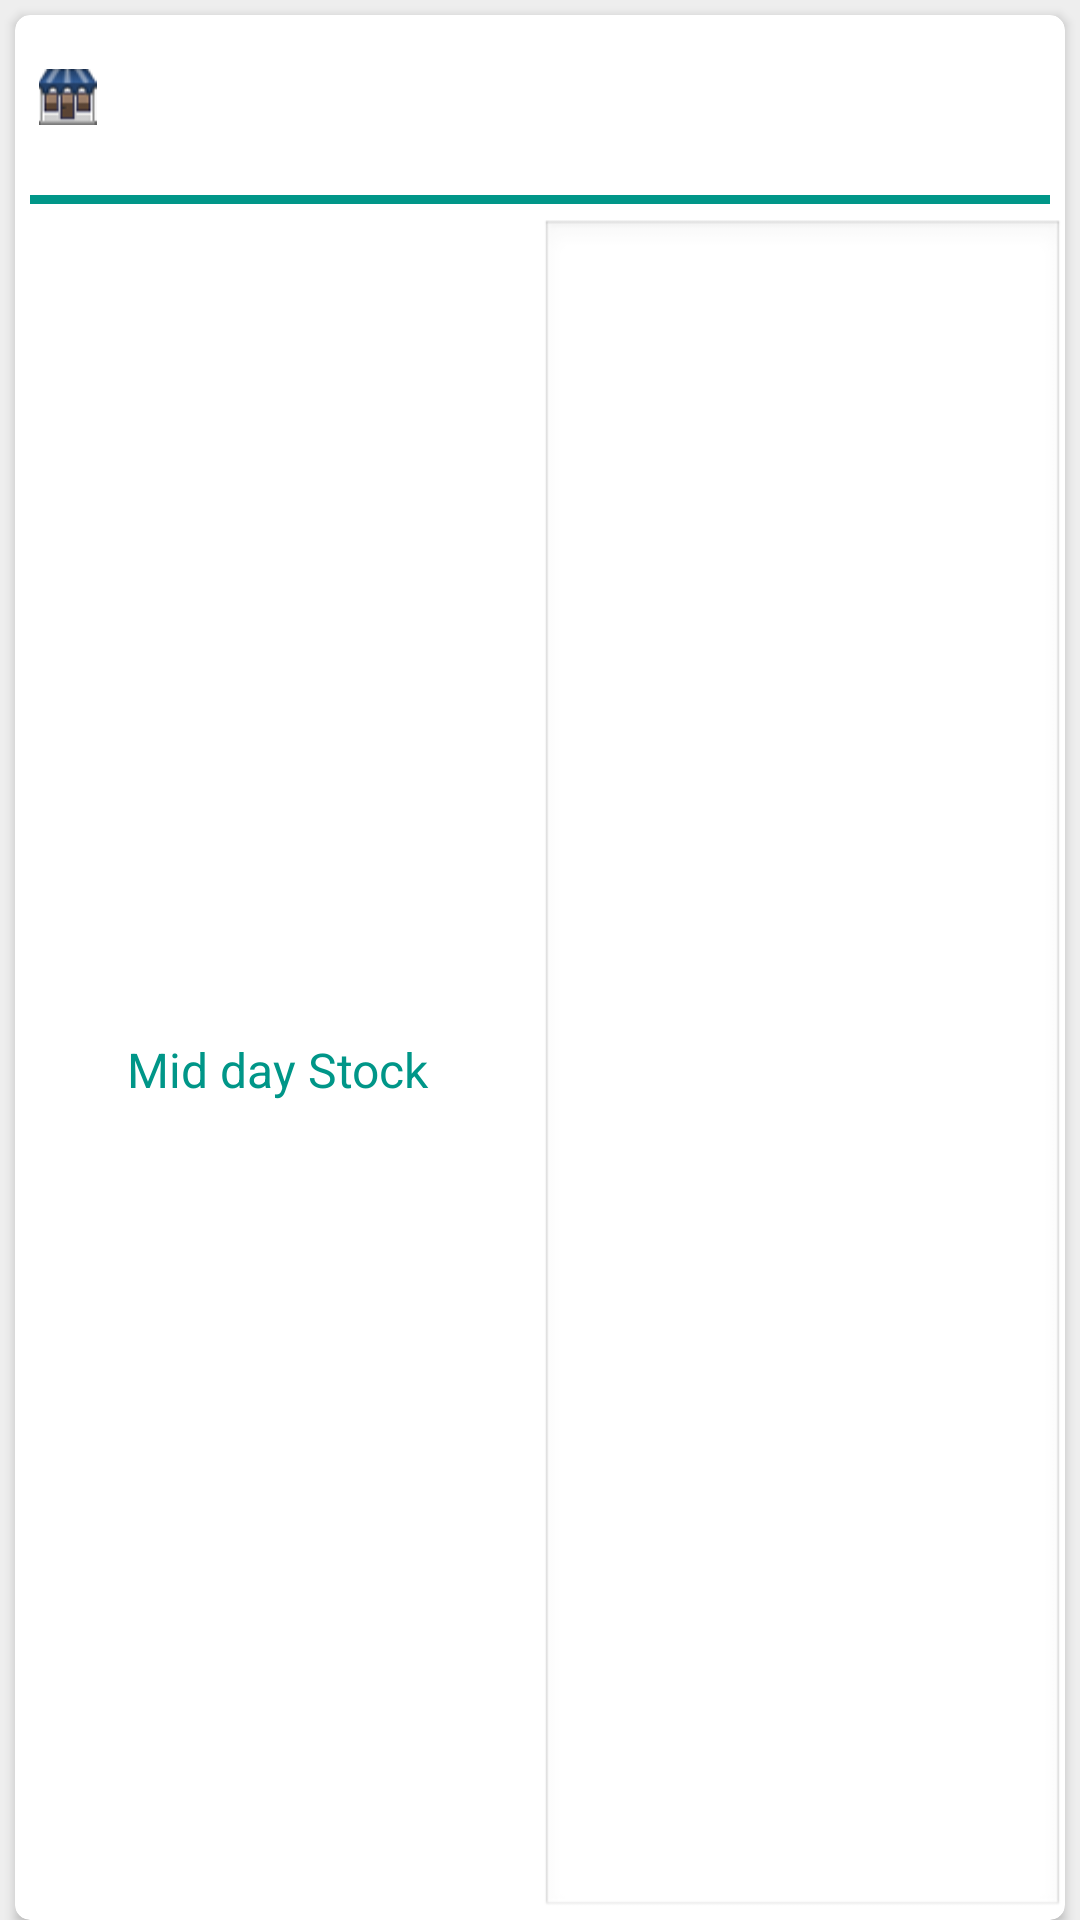

Icons on this 1080px×1920px Android screen, each with the point to tap as (x,y):
store: (68,97)
